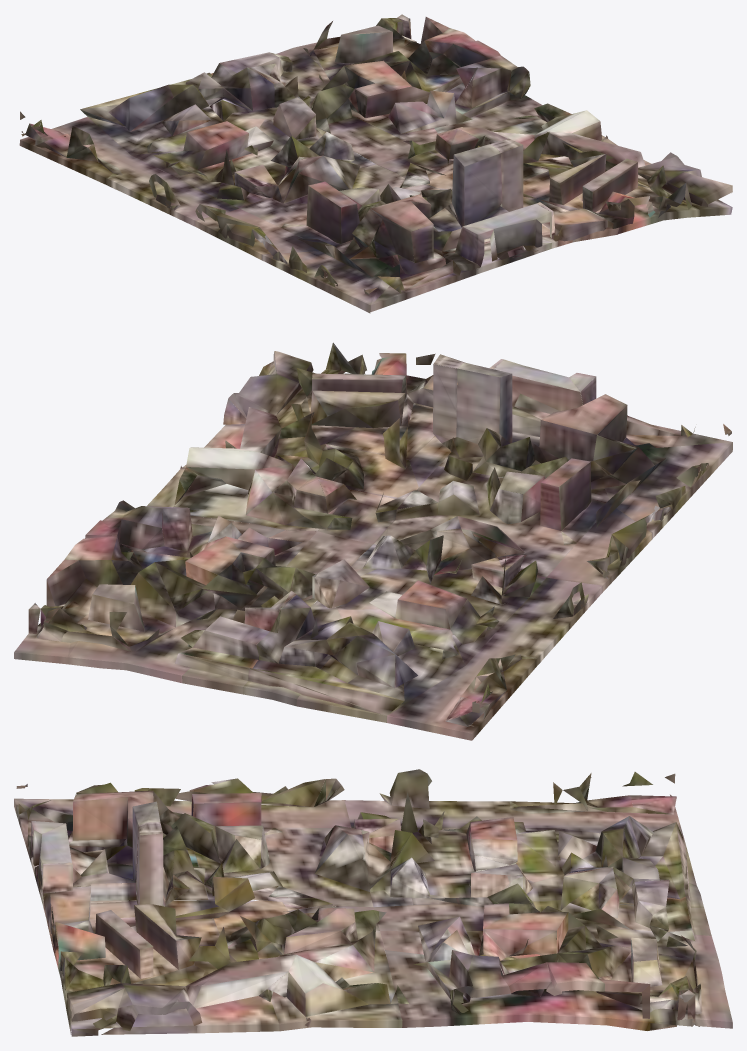
The picture shows the model from 3 angles, top to bottom: view 1: azimuth 30°, elevation 25°; view 2: azimuth 150°, elevation 25°; view 3: azimuth 270°, elevation 25°; orthographic projection. The views are drawn at different scales.
Parts seen in each view (by area): view 1: Mesh_0; view 2: Mesh_0; view 3: Mesh_0.
Part boxes in pixels (x1,y1,x2,y2): Mesh_0: (19, 14, 732, 313); Mesh_0: (14, 342, 732, 740); Mesh_0: (14, 769, 732, 1036).
Size of the model in its own units: 270 by 64.35 by 330.
Materials: 2 (2 with a texture image).
